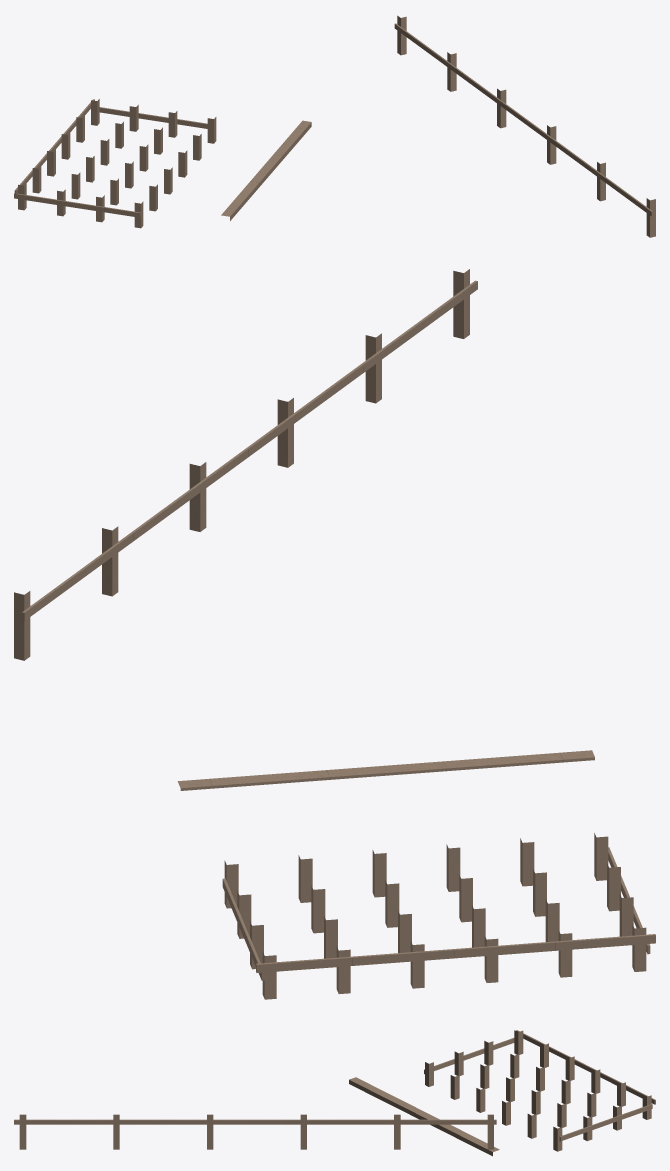
Rendered from kd_stage_13612f_4_2.glb.
3 views of the same model, one above another, from view 1: azimuth 30°, elevation 25°; view 2: azimuth 150°, elevation 25°; view 3: azimuth 270°, elevation 25° (orthographic). The views are drawn at different scales.
Parts seen in each view (by area): view 1: kd_stage_13612f_4_2; view 2: kd_stage_13612f_4_2; view 3: kd_stage_13612f_4_2.
Part boxes in pixels (bbox=[...]): kd_stage_13612f_4_2: bbox=[14, 15, 655, 237]; kd_stage_13612f_4_2: bbox=[14, 269, 655, 999]; kd_stage_13612f_4_2: bbox=[14, 1030, 655, 1156].
Bounding box in the file's own units: 12.74 × 3.7 × 20.05.
1 material, 1 textured.
